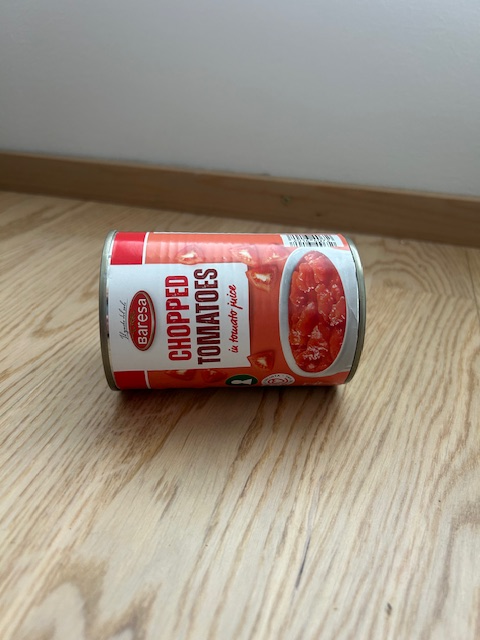Konservburk: (98, 230, 367, 392)
